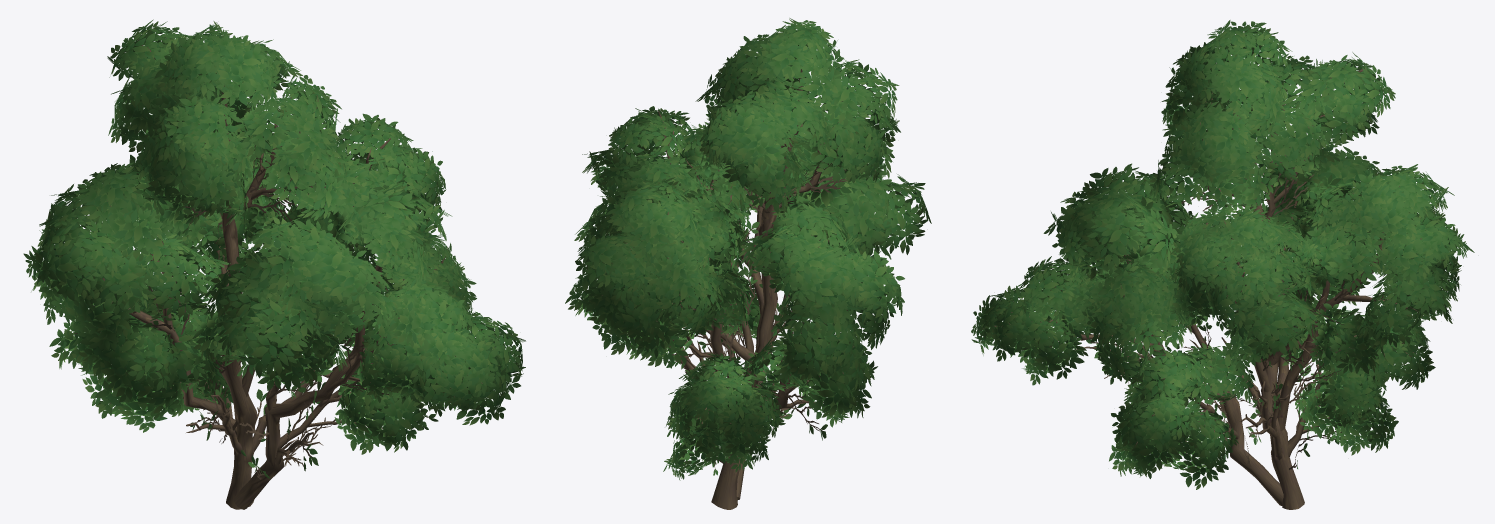
Rendered from SM_FW01_Tree_B_10.fbx.
The picture shows the model from 3 angles, left to right: view 1: azimuth 30°, elevation 25°; view 2: azimuth 150°, elevation 25°; view 3: azimuth 270°, elevation 25°; orthographic projection. The views are drawn at different scales.
Parts seen in each view (by area): view 1: SM_FW01_Tree_B_10_LOD0; view 2: SM_FW01_Tree_B_10_LOD0; view 3: SM_FW01_Tree_B_10_LOD0.
Part boxes in pixels (bbox=[...]): SM_FW01_Tree_B_10_LOD0: bbox=[23, 19, 525, 509]; SM_FW01_Tree_B_10_LOD0: bbox=[565, 18, 931, 509]; SM_FW01_Tree_B_10_LOD0: bbox=[971, 20, 1474, 509].
Size of what is drawn, in the model's own units: 6.63 by 7.62 by 7.74.
